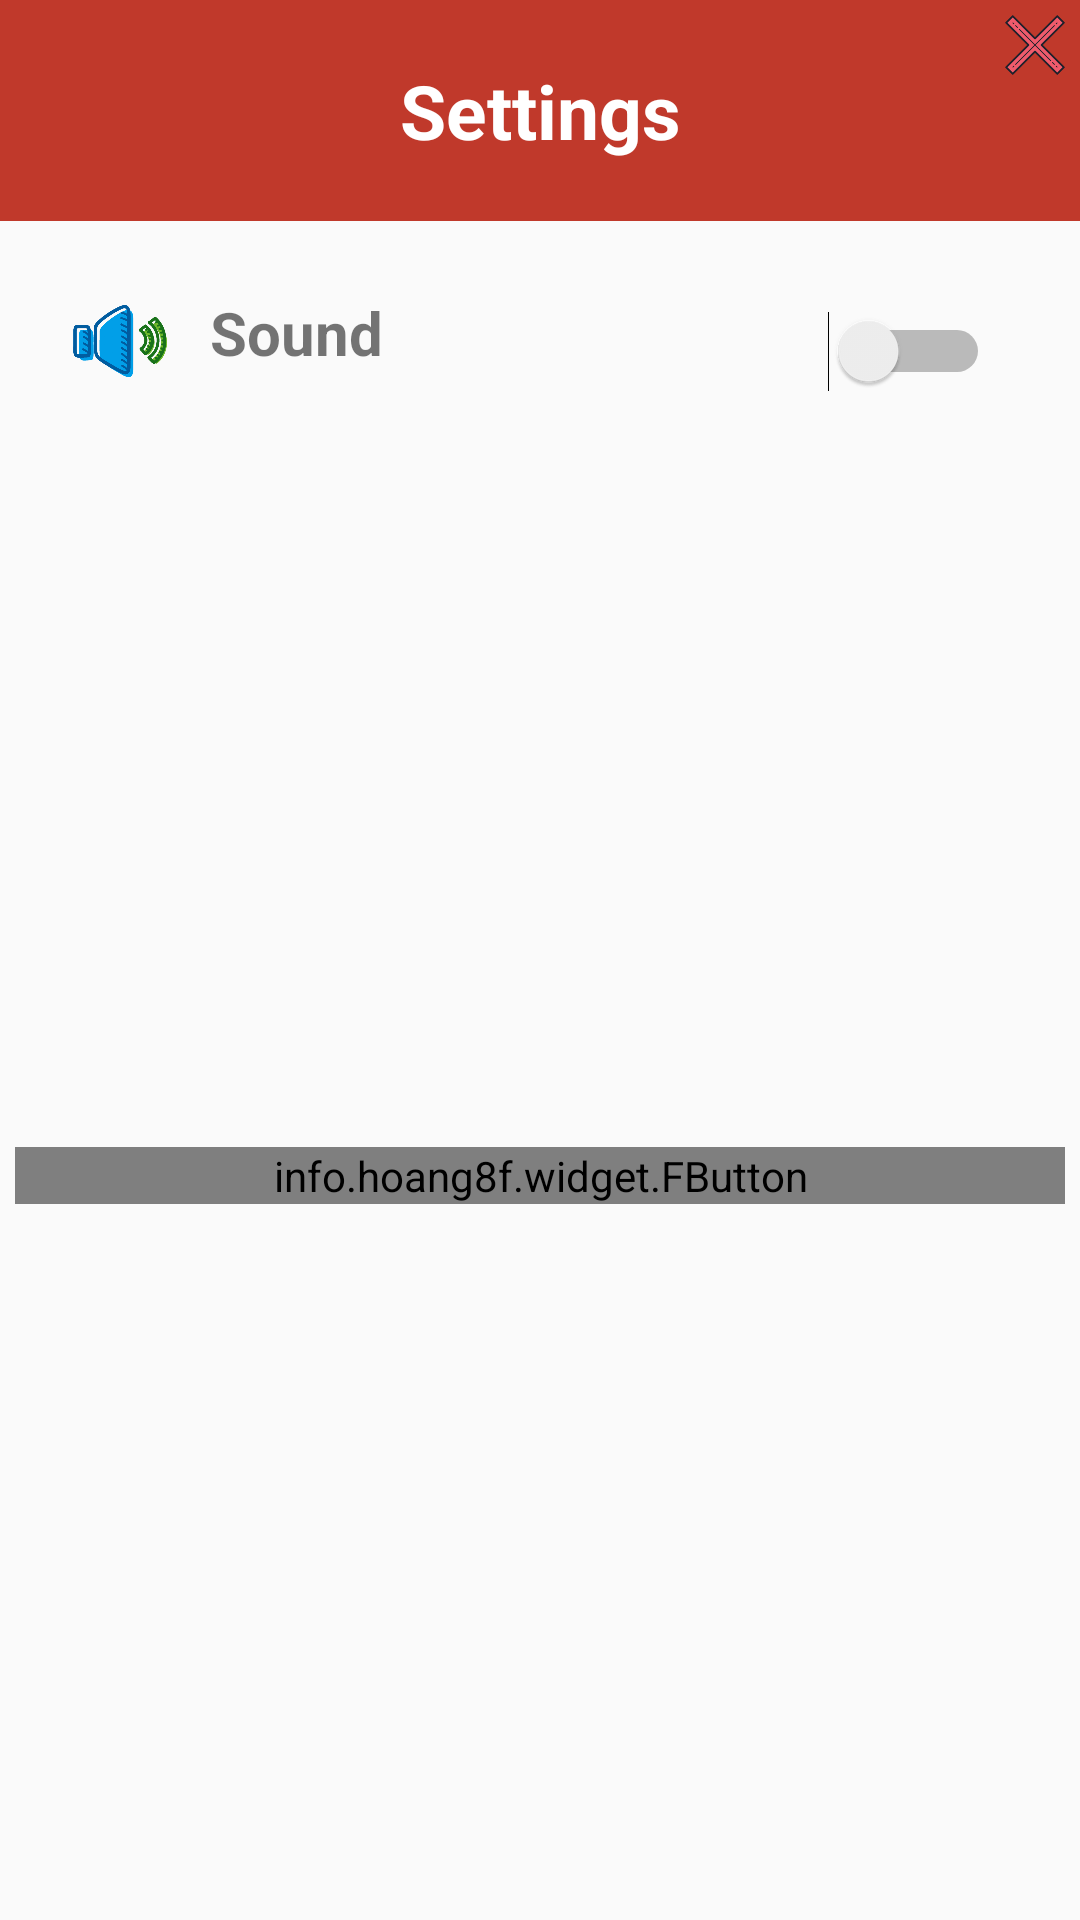

Where to tap for icons on this 1080*1920 app screen, as point (x, y):
close: point (1035, 45)
